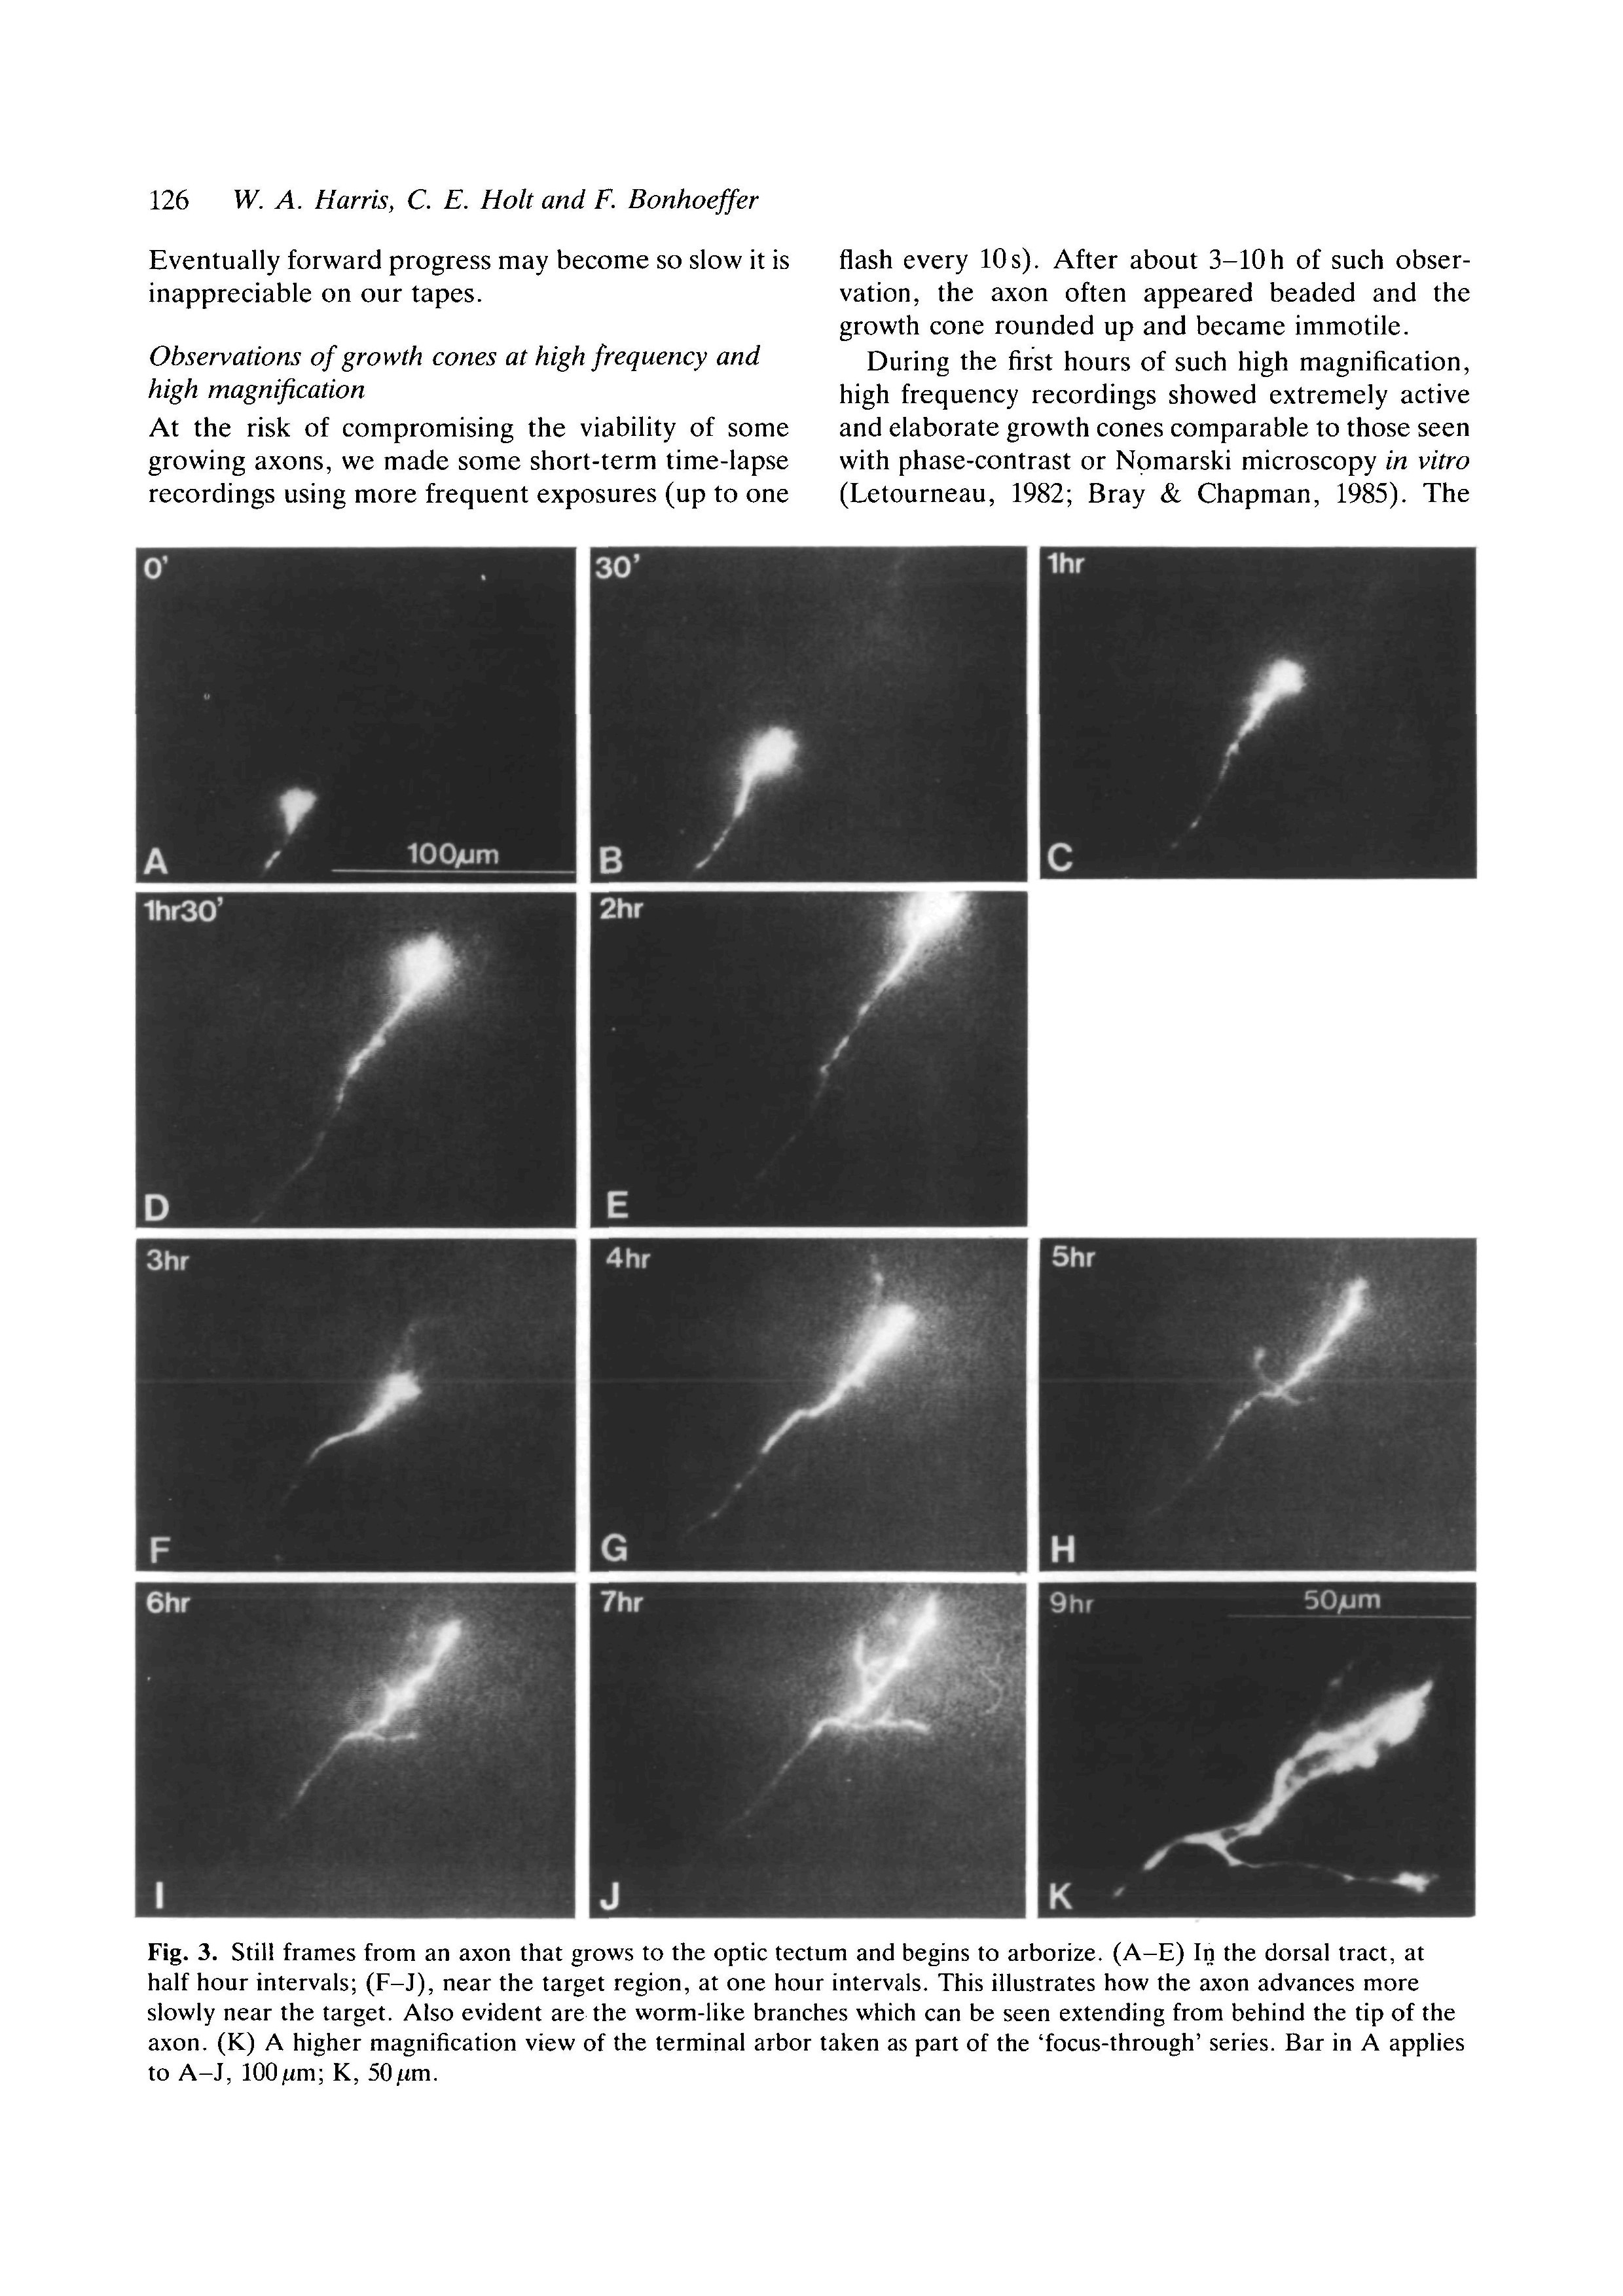caption: (148, 1940, 1477, 2101)
figure: (1043, 1229, 1488, 1575), (133, 1232, 564, 1578), (137, 1585, 578, 1922), (588, 1236, 1022, 1578), (1057, 546, 1491, 885), (1036, 1589, 1481, 1917), (595, 1582, 1019, 1926), (602, 888, 1036, 1222), (599, 549, 1033, 878), (144, 904, 578, 1232), (141, 553, 578, 865)
text: (829, 233, 1484, 504), (144, 349, 808, 518), (144, 249, 803, 302)
